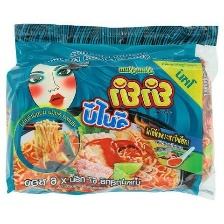snack: (0, 18, 224, 206)
